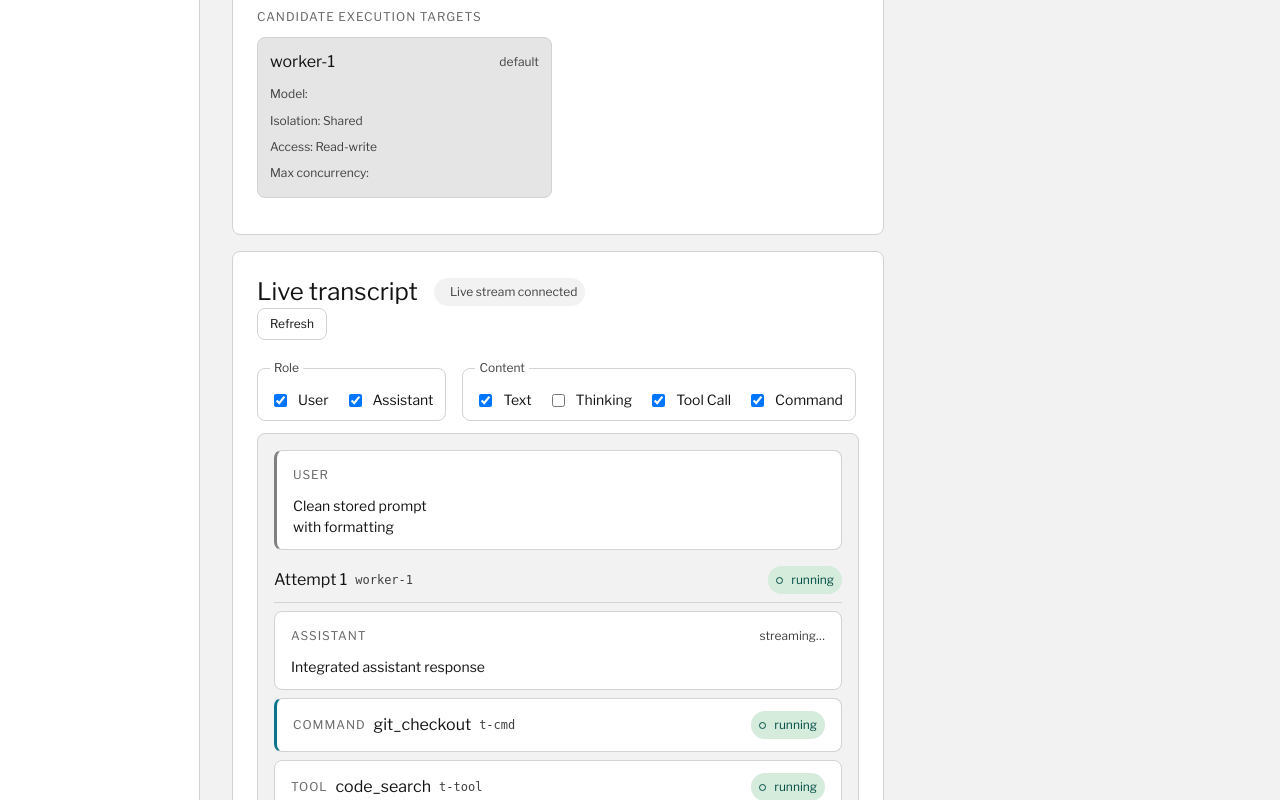
Test: Dashboard integrated user flows › integrates stored prompt, normalized categories, filter toggles, and security exclusions
(page scrolled)
Expected: the text "Attempt 1" is shown, [274,568,347,592]
Expected: the element with class "transcript-user-card" is shown, [274,450,842,550]
Enable Thinking
Click the checkbox labelled "Thinking": [558, 400] box [552,394,565,406]
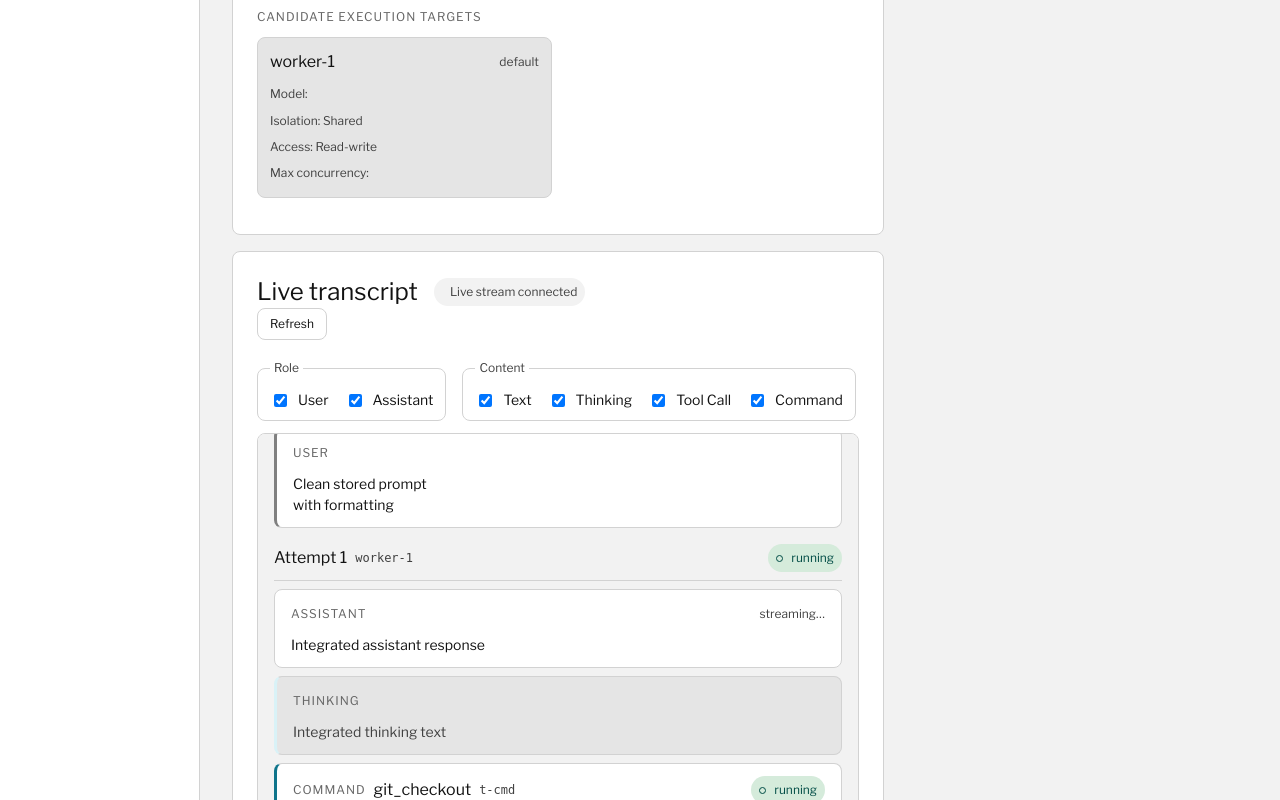
Now the text "Integrated thinking text" is shown, box [293,723,446,740]
Uncheck Text
Click the checkbox labelled "Text": [486, 400] box [480,394,492,406]
(page scrolled)
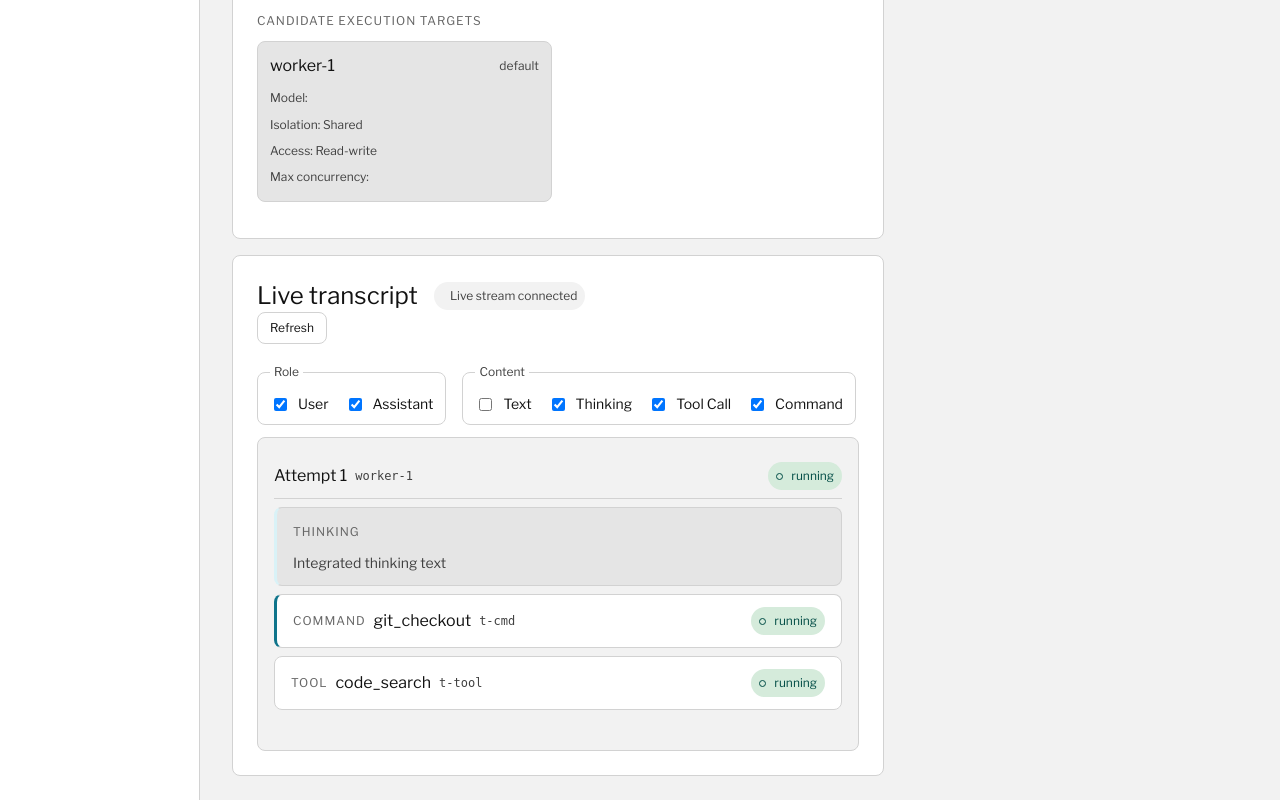
Expected: the text "git_checkout" is shown, [374,611,471,630]
Now the text "Integrated assistant response" is gone
